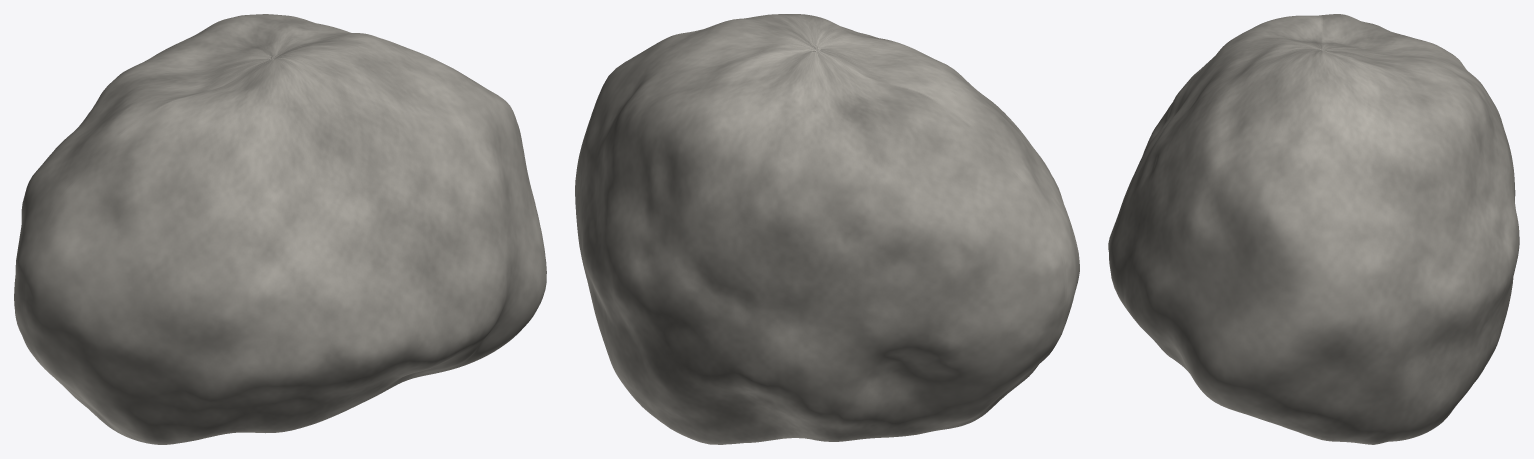
The picture shows the model from 3 angles, left to right: view 1: azimuth 30°, elevation 25°; view 2: azimuth 150°, elevation 25°; view 3: azimuth 270°, elevation 25°; orthographic projection. The views are drawn at different scales.
Visible parts, largest first — view 1: Epimetheus; view 2: Epimetheus; view 3: Epimetheus.
Part boxes in pixels (box(x1,y1,x2,y2)): Epimetheus: box(14, 14, 546, 444); Epimetheus: box(575, 14, 1079, 444); Epimetheus: box(1108, 14, 1519, 444).
Size of the model in its own units: 146 by 108 by 113.
1 material, 1 textured.
